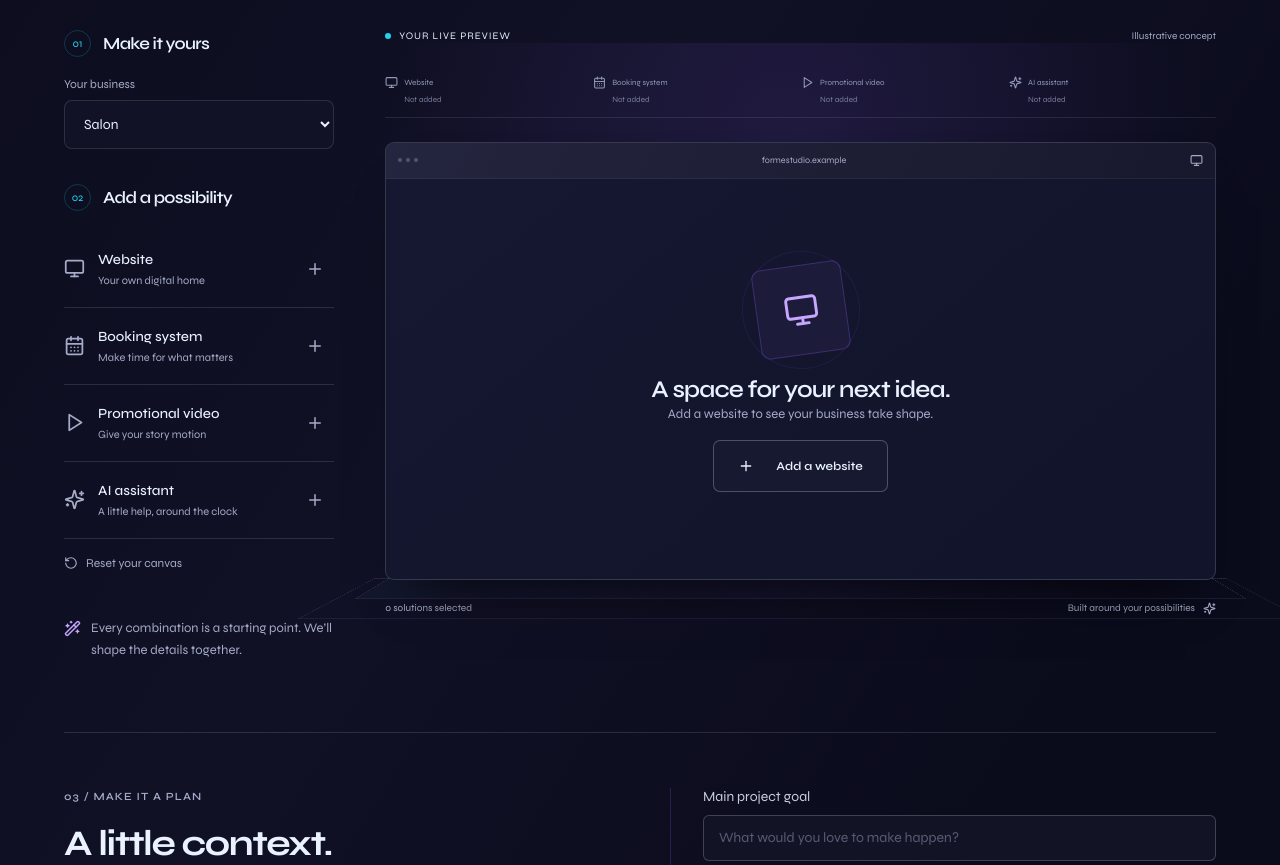
it: project exploration and inquiry › rebuilds business-specific modules without retaining an old business conversation
The width and height of the screenshot is (1280, 865).
(page scrolled)
Click the button "AI assistant A little help, around the clock": [136, 490] box [64,462,334,539]
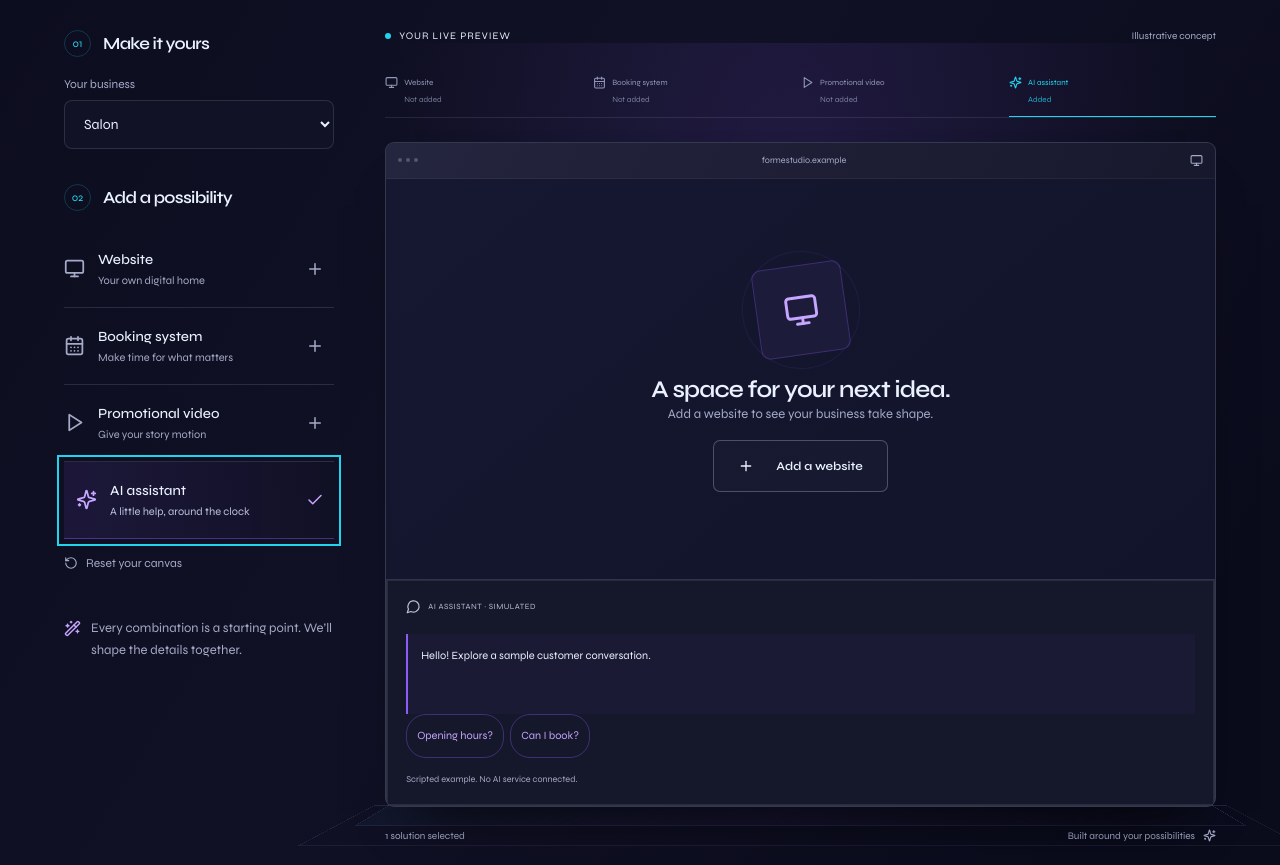
Click the button "Opening hours?": [455, 736] box [406,714,504,758]
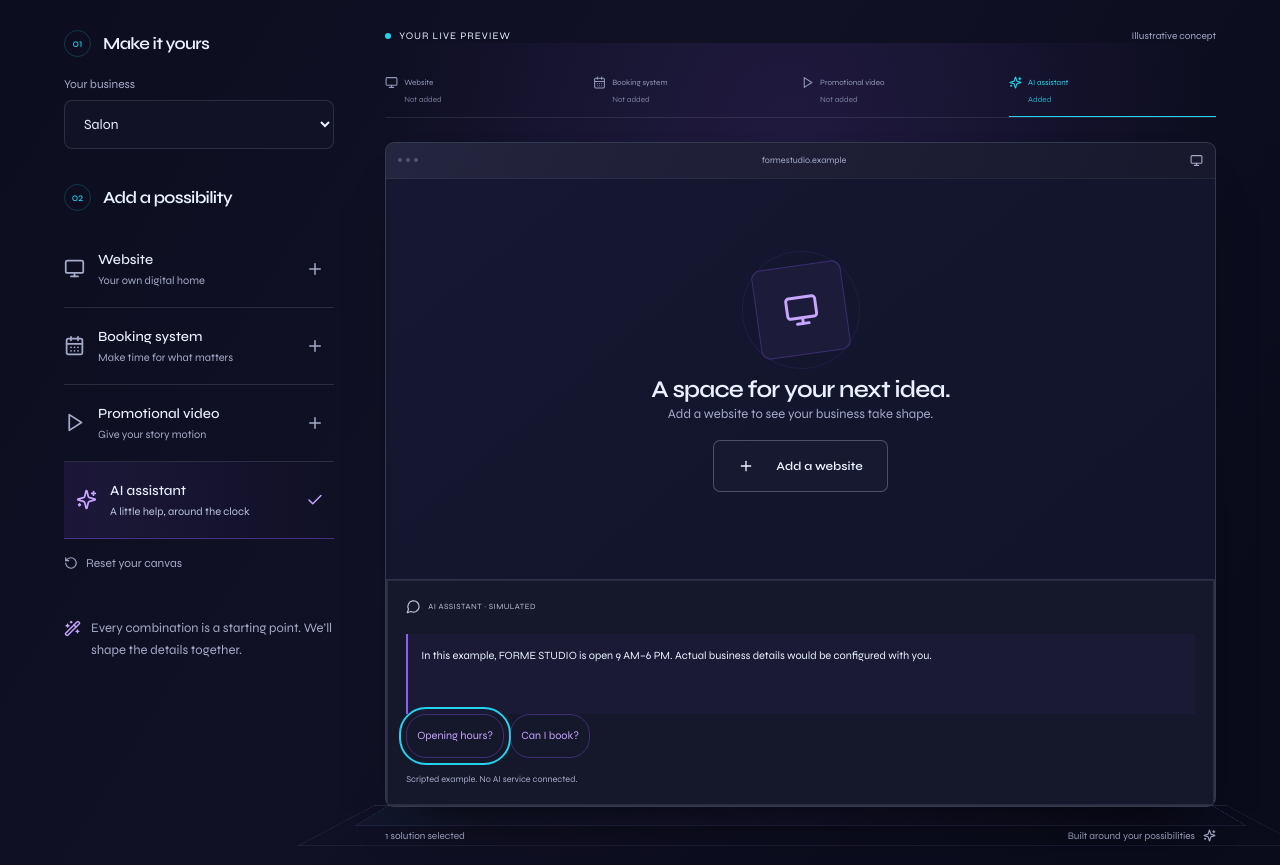
Expected: the text "In this example, FORME STUDIO" is shown, [421,649,932,662]
Click the button "Promotional video Give your story motion": [199, 423] box [64,385,334,462]
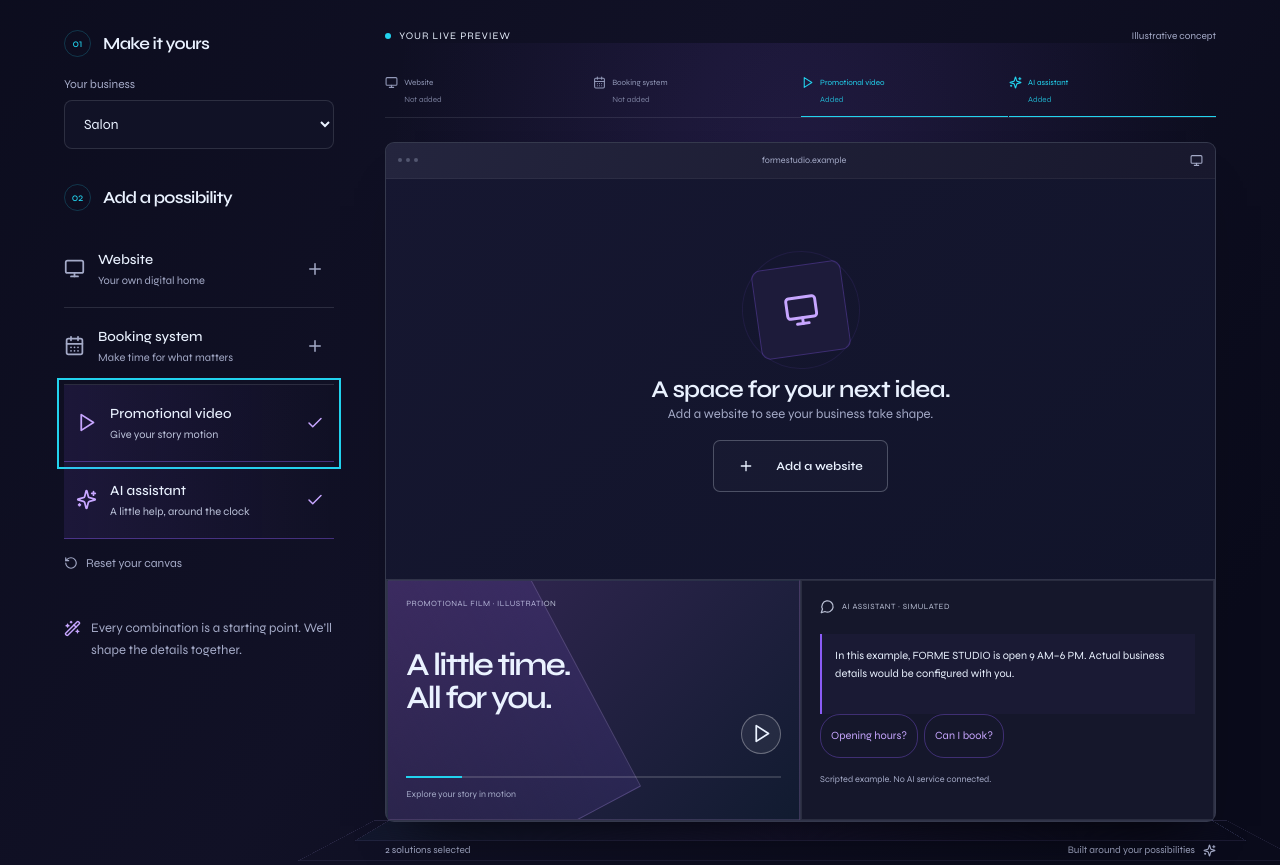
Click the button named "Play illustrative animation": [761, 734] box [741,714,781,754]
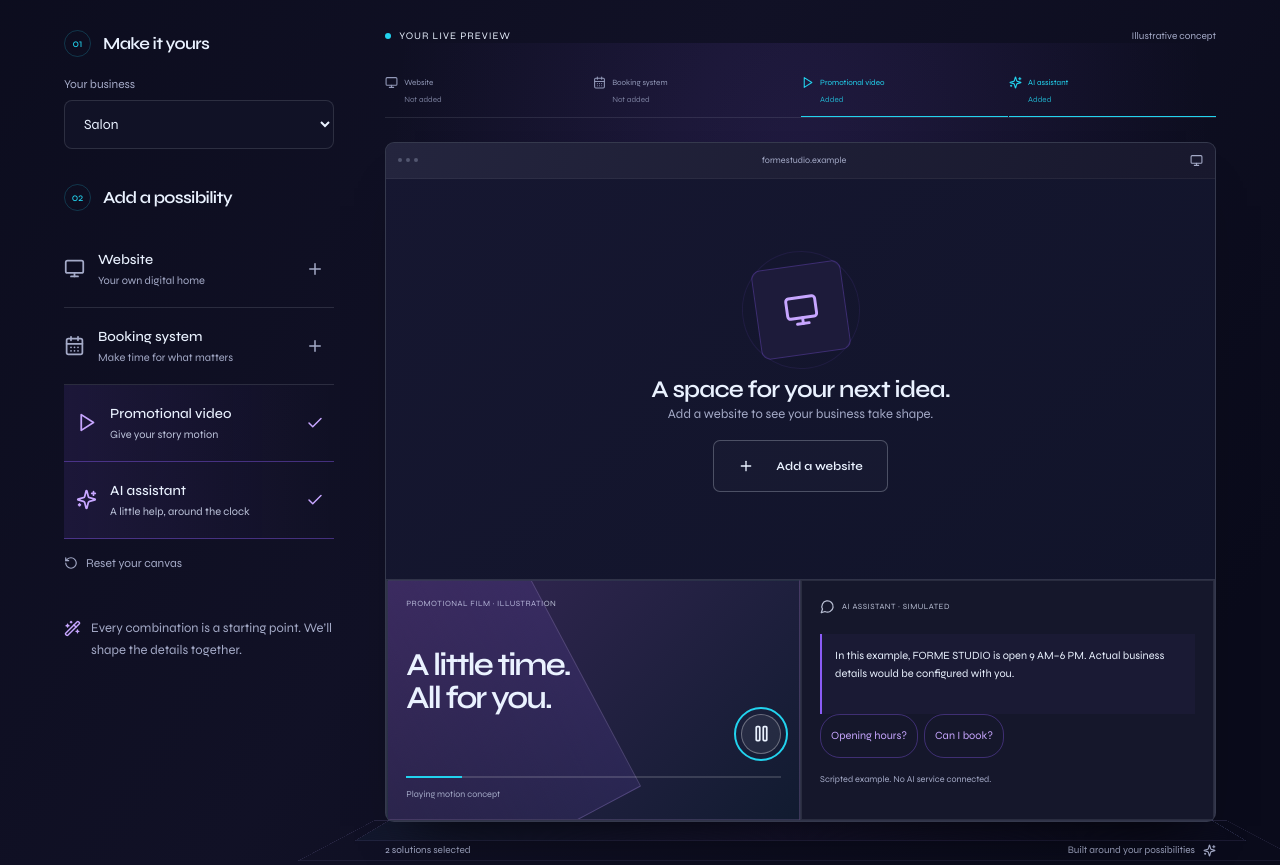
Select "Gym / Fitness" in the dropdown labelled "Your business": [199, 124] box [64,100,334,149]
(page scrolled)
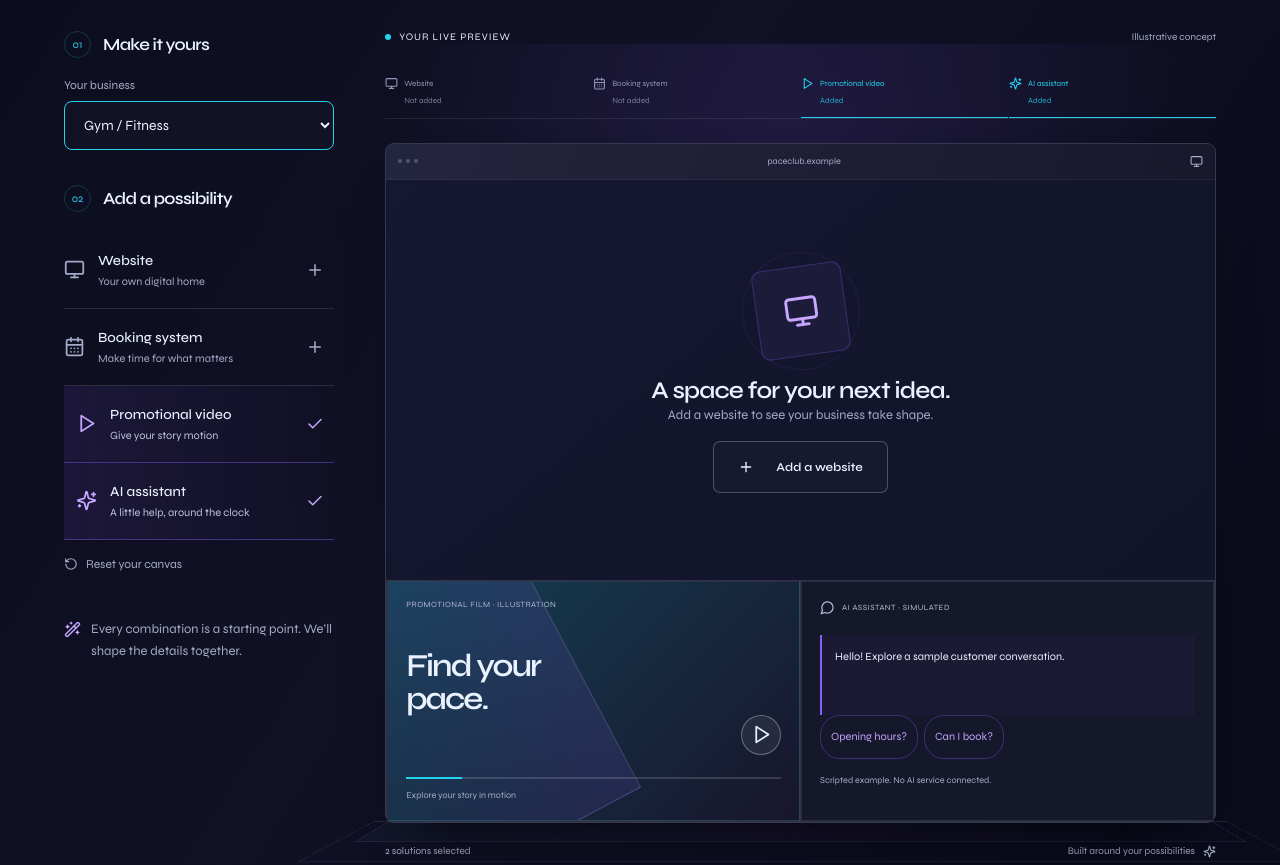
Expected: the text "In this example, FORME STUDIO" is gone
Expected: the text "Hello! Explore a sample customer conversation." is shown, [835,650,1065,663]
Expected: the text "Find your pace." is shown, [406,646,540,718]
Click the button "Can I book?": [964, 737] box [924,715,1004,759]
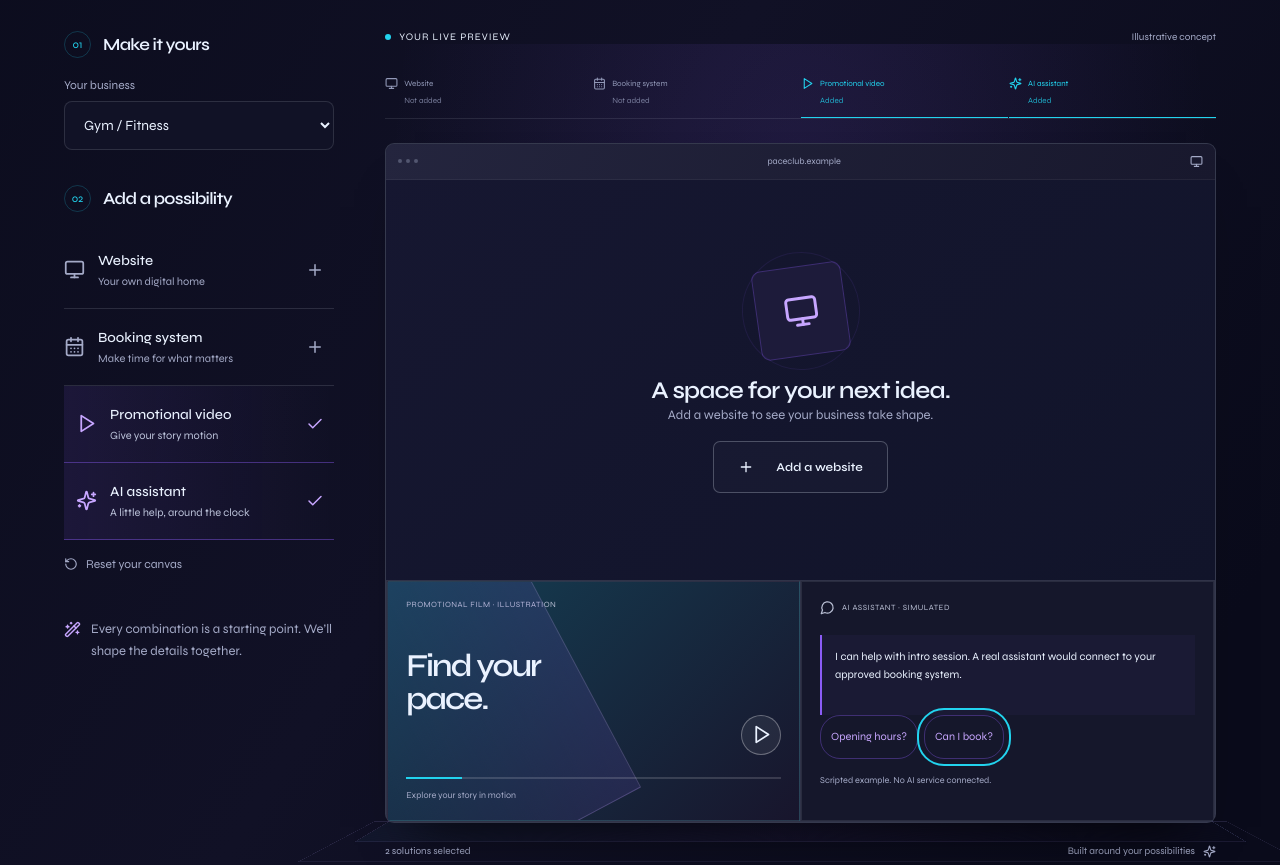
Expected: the text "Added" is shown 2 times, [820,96,843,105]; [1028,96,1051,105]
Expected: the text "I can help with intro session" is shown, [835,650,1156,682]
